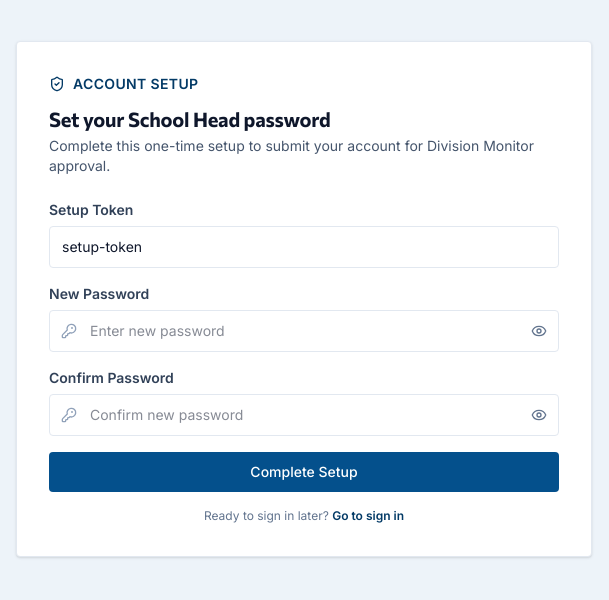
Test case: auth recovery service-unavailable errors › preserves account-setup storage messages from backend 503 responses
Type "Demo@123456" into the password field labelled "New Password" at coordinates (304, 331), box [49,310,559,352]
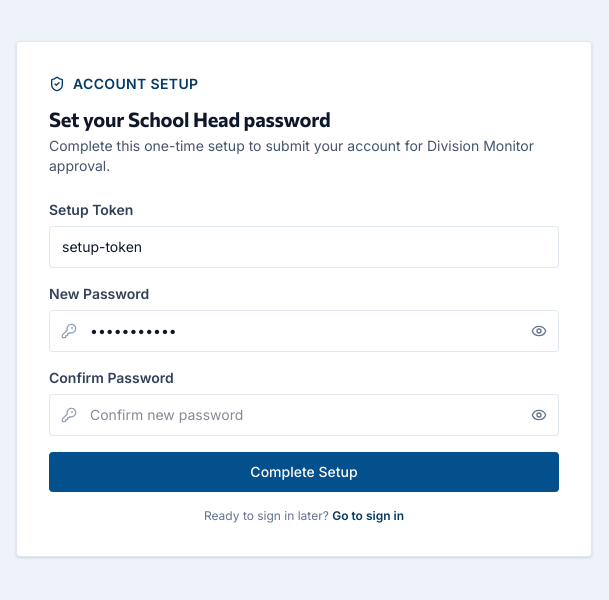
Type "Demo@123456" into the password field labelled "Confirm Password" at coordinates (304, 415), box [49,394,559,436]
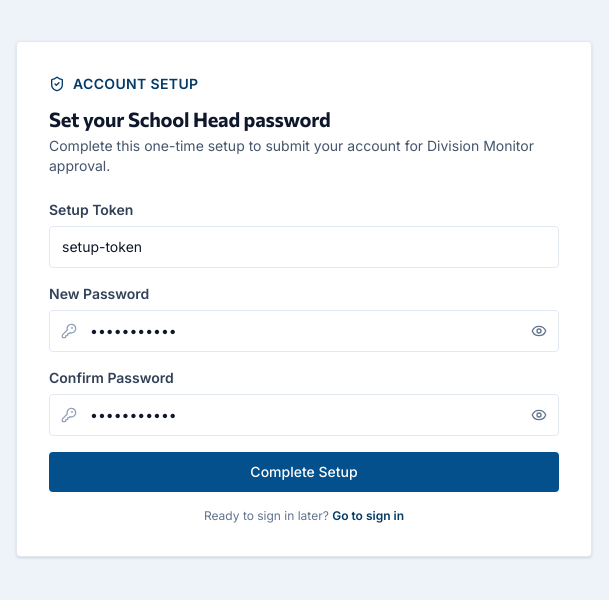
Submit the form "Complete Setup", box [49,200,559,524]
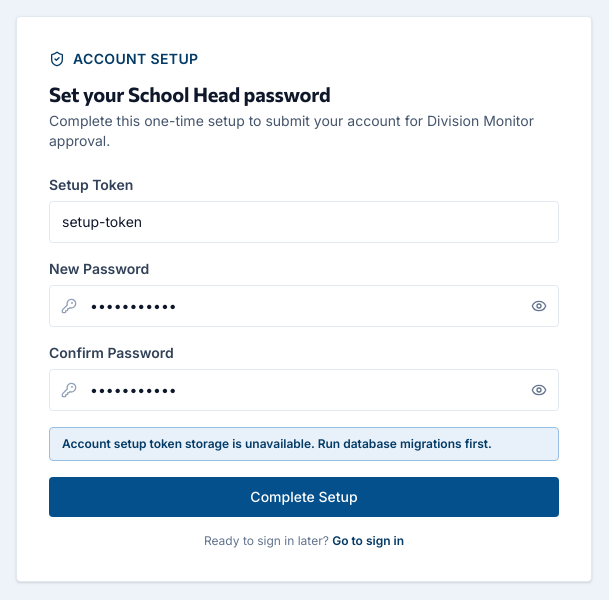
Expected: the text "Account setup token storage is unavailable. Run database migrations first." is shown, [49,427,559,461]
